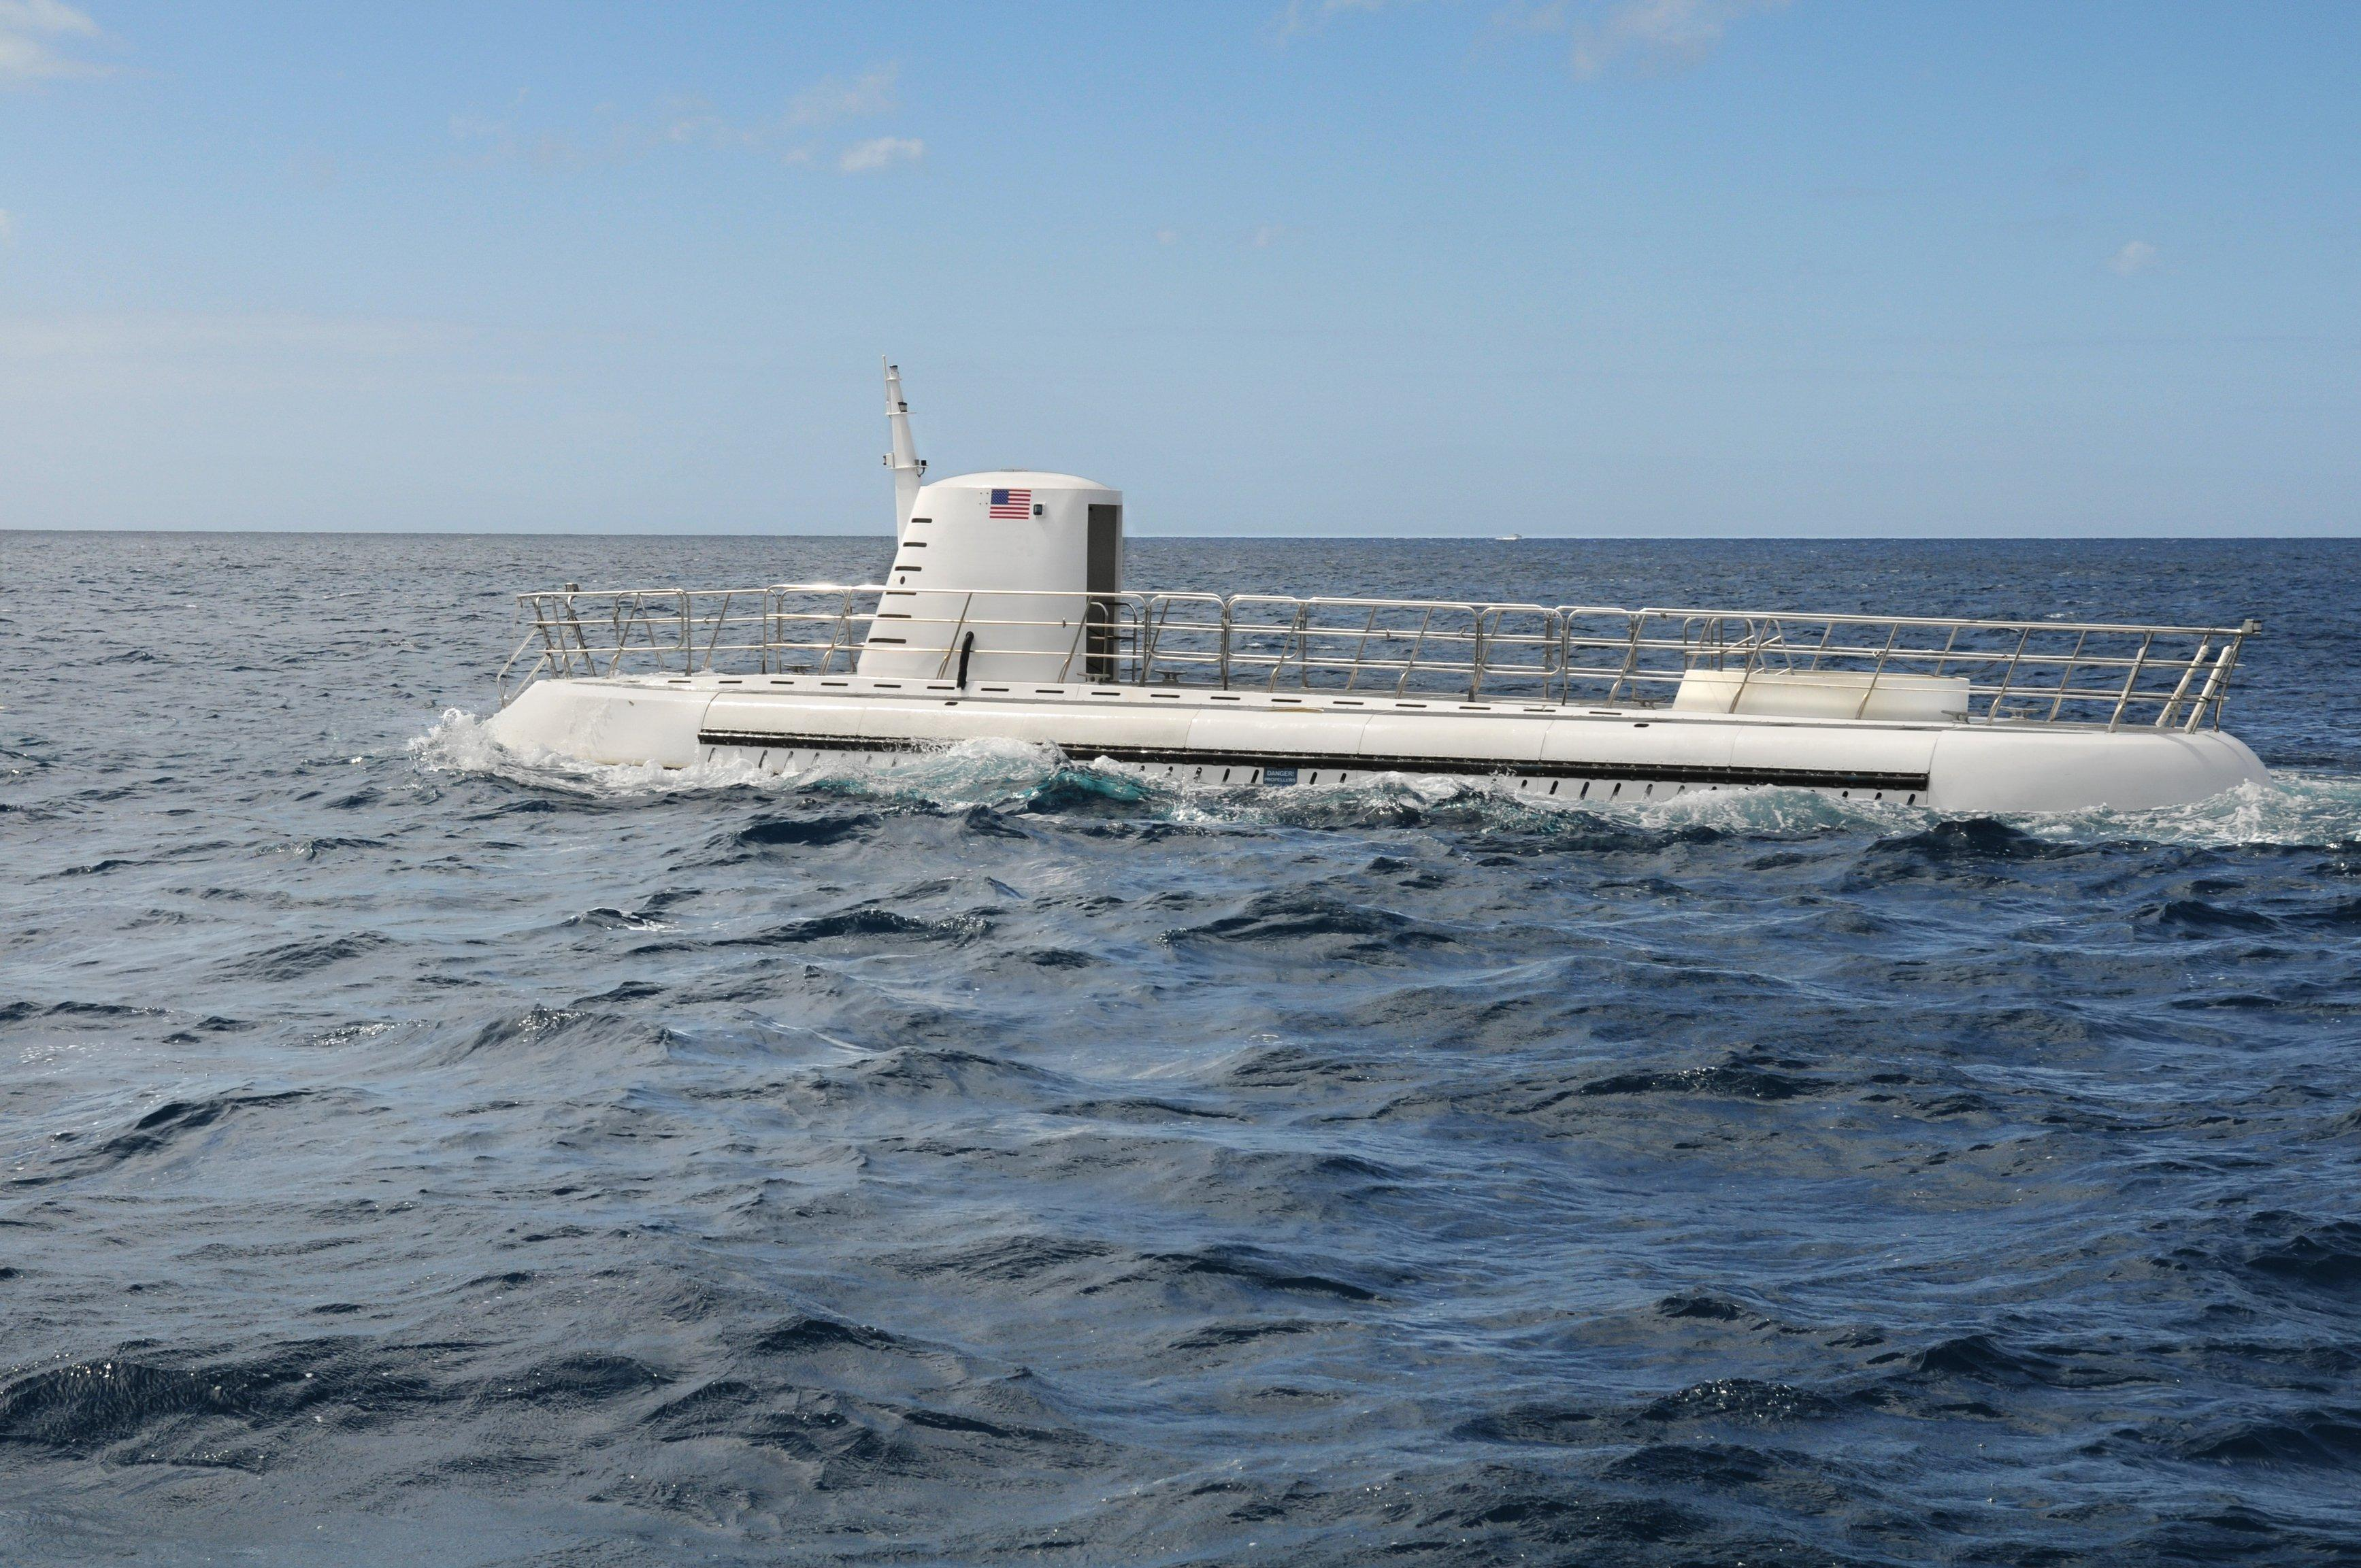Submarine: (347, 245, 2361, 1132)
